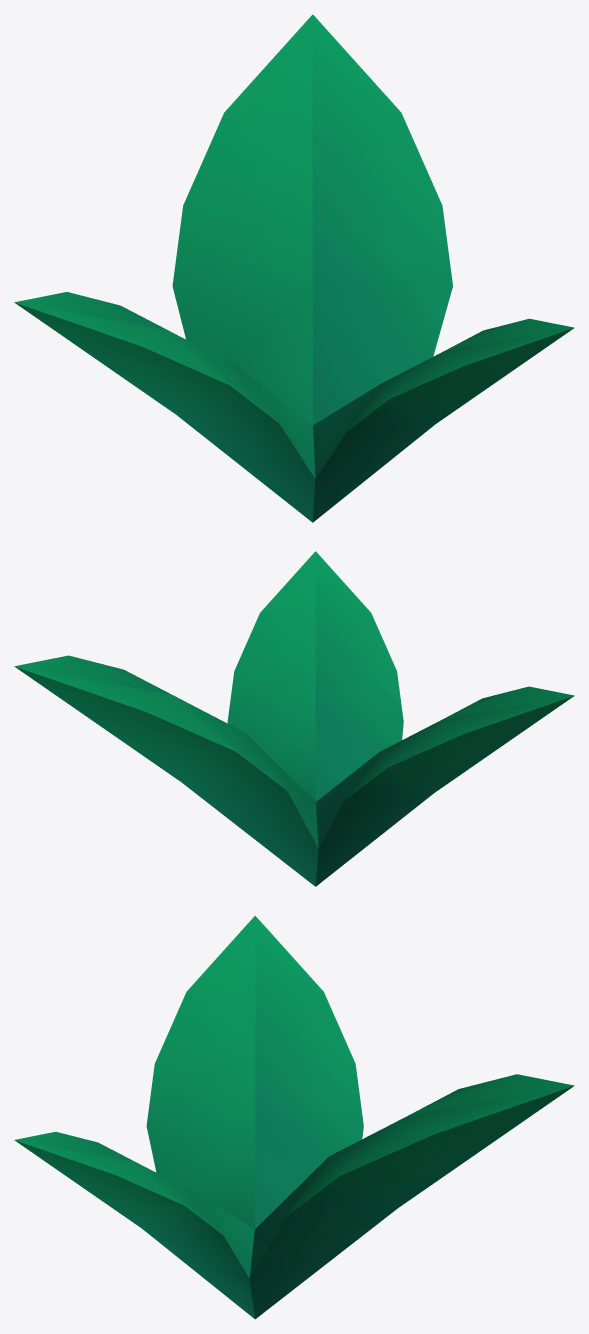
File: waterplant_A.glb
3 renders of one model, top to bottom at view 1: azimuth 30°, elevation 25°; view 2: azimuth 150°, elevation 25°; view 3: azimuth 270°, elevation 25°, orthographic. The views are drawn at different scales.
Visible parts, largest first — view 1: waterplant_A; view 2: waterplant_A; view 3: waterplant_A.
Boxes of the visible parts, x1=… form: waterplant_A: x1=14, y1=14, x2=574, y2=522; waterplant_A: x1=14, y1=551, x2=574, y2=886; waterplant_A: x1=14, y1=915, x2=574, y2=1319.
Bounding box in the file's own units: 0.1983 × 0.1323 × 0.2157.
1 material, 1 textured.
